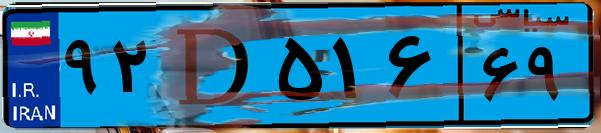1: (330, 28, 385, 110)
2: (110, 28, 158, 98)
5: (270, 28, 330, 110)
6: (385, 28, 445, 110), (475, 38, 525, 113)
9: (57, 26, 110, 100), (525, 38, 570, 115)
D: (158, 12, 270, 120)
